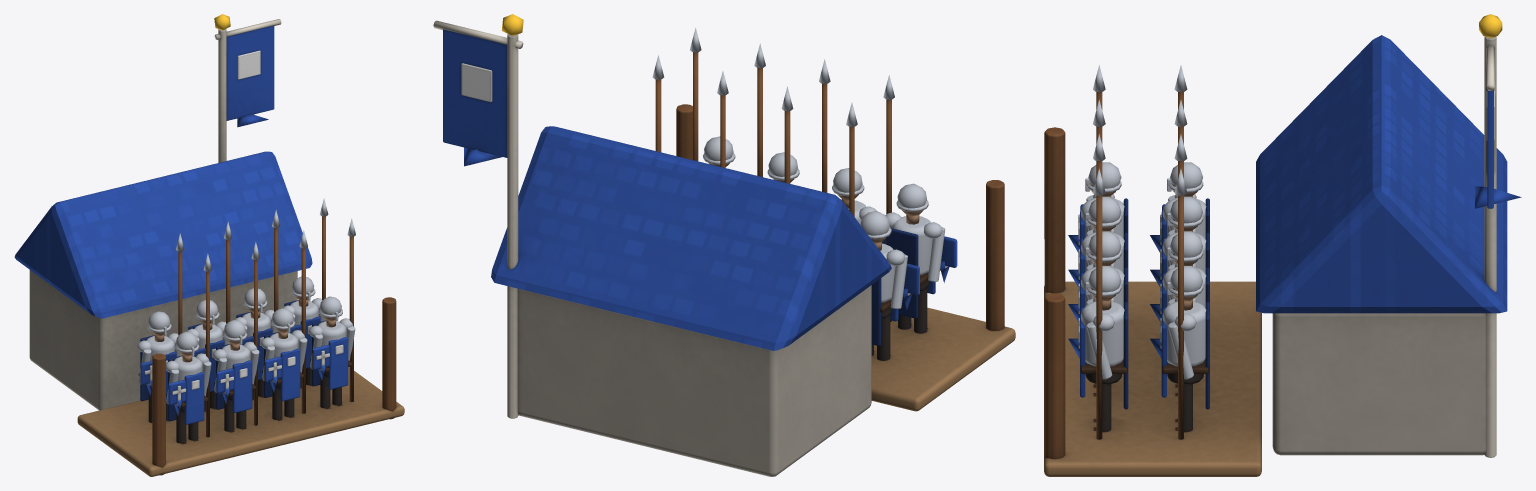
Rendered from barracks.glb.
The picture shows the model from 3 angles, left to right: view 1: azimuth 30°, elevation 25°; view 2: azimuth 150°, elevation 25°; view 3: azimuth 270°, elevation 25°; orthographic projection. The views are drawn at different scales.
Parts seen in each view (by area): view 1: house; view 2: house; view 3: house.
Part boxes in pixels (x1,y1,x2,y2): house: (14,14,404,476); house: (433,14,1015,476); house: (1044,14,1521,476).
Size of the model in its own units: 0.88 by 0.895 by 0.8776.
Materials: 3 (1 with a texture image).
